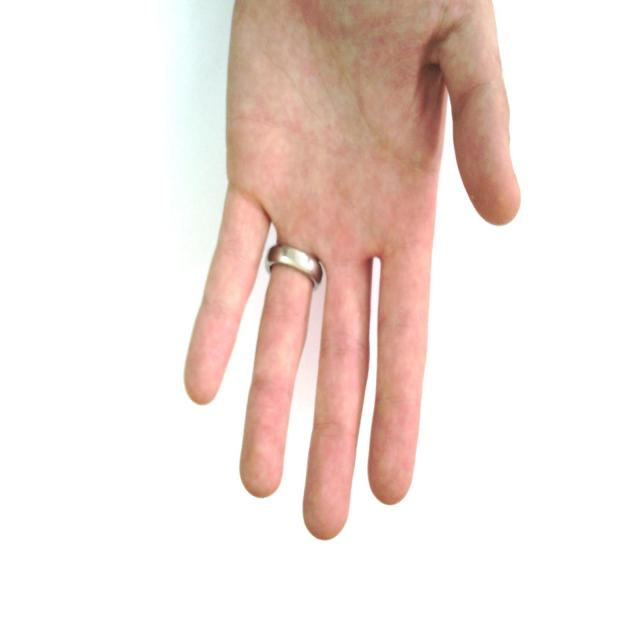others: (163, 1, 541, 539)
